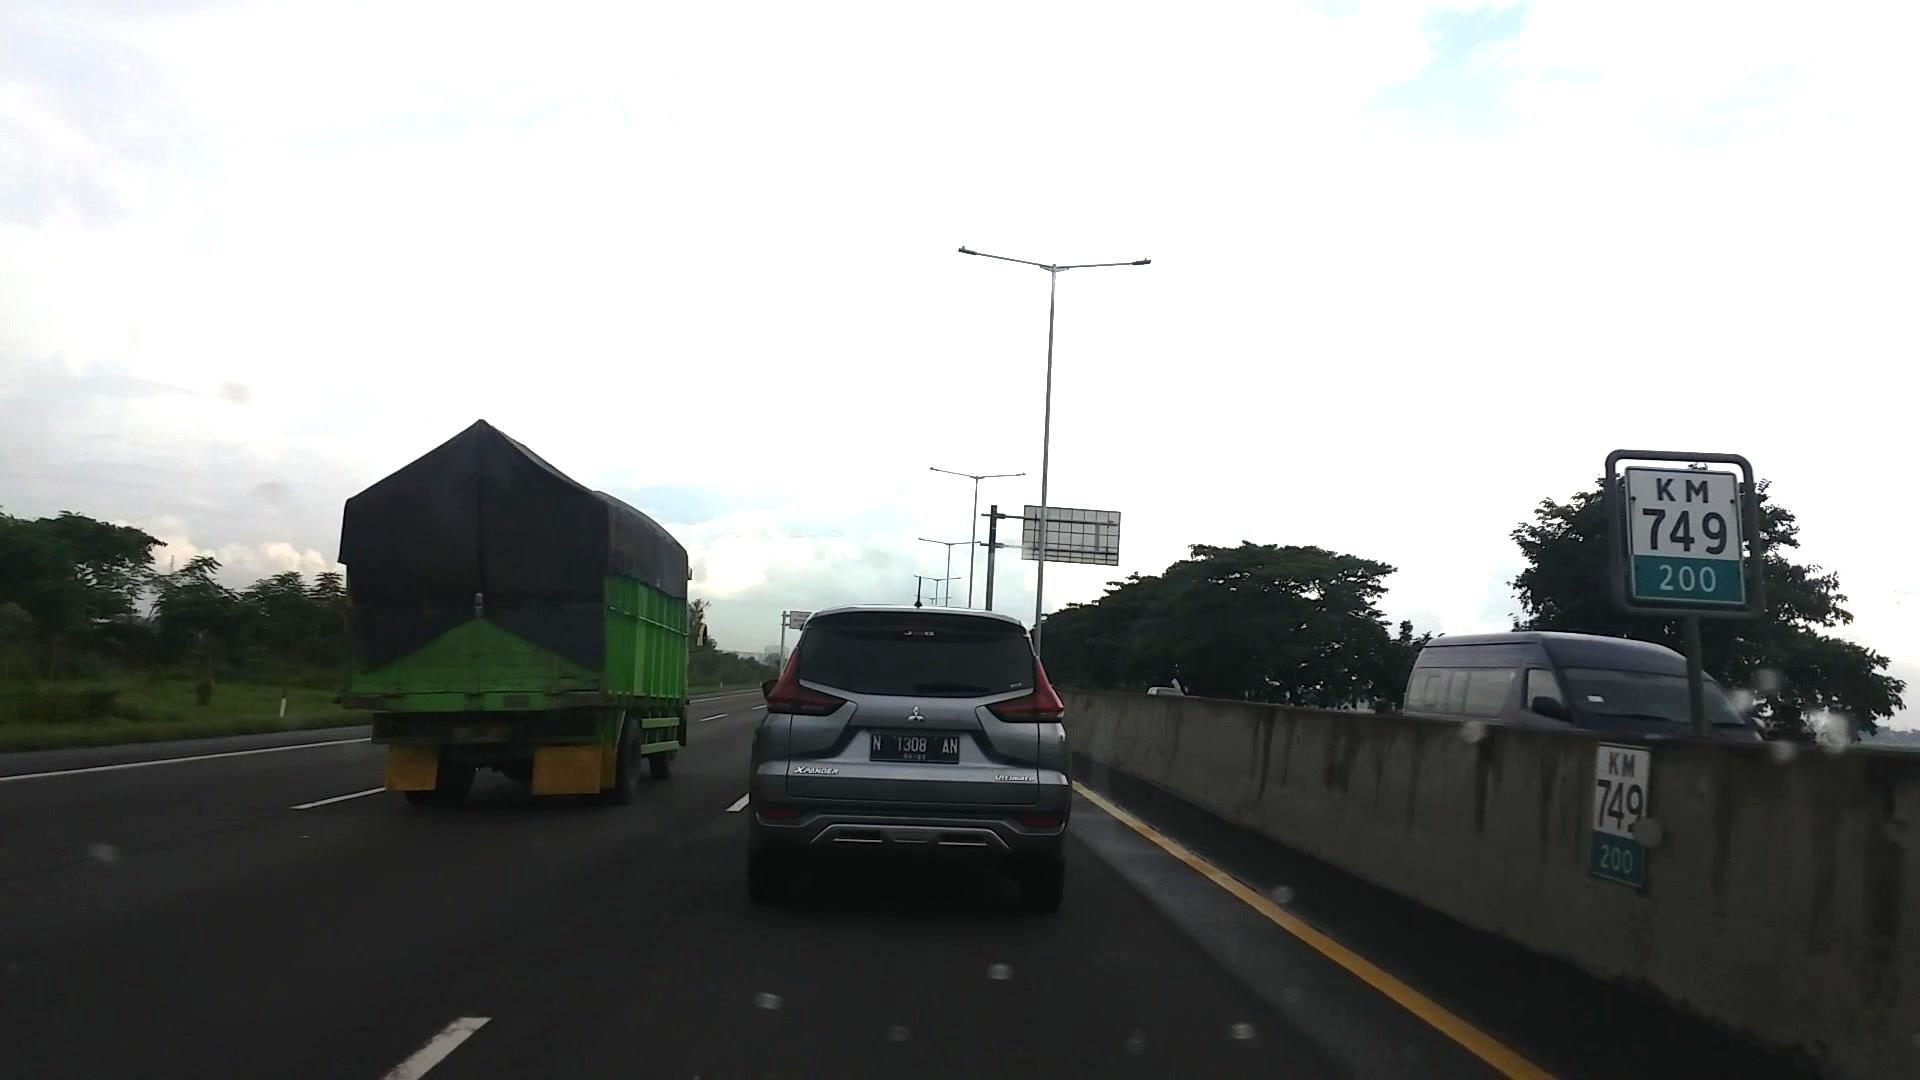plate_positive: (872, 731, 959, 764)
